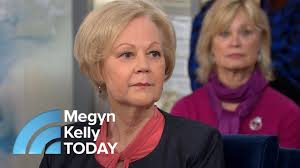white_female: (90, 23, 174, 112)
